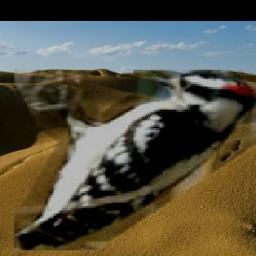Woodpecker: (14, 71, 256, 251)
